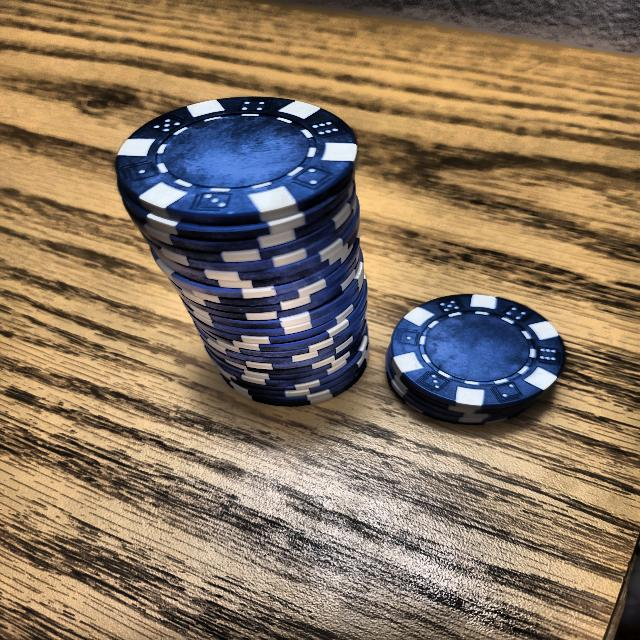Chip: (78, 58, 404, 418), (366, 268, 578, 448)
